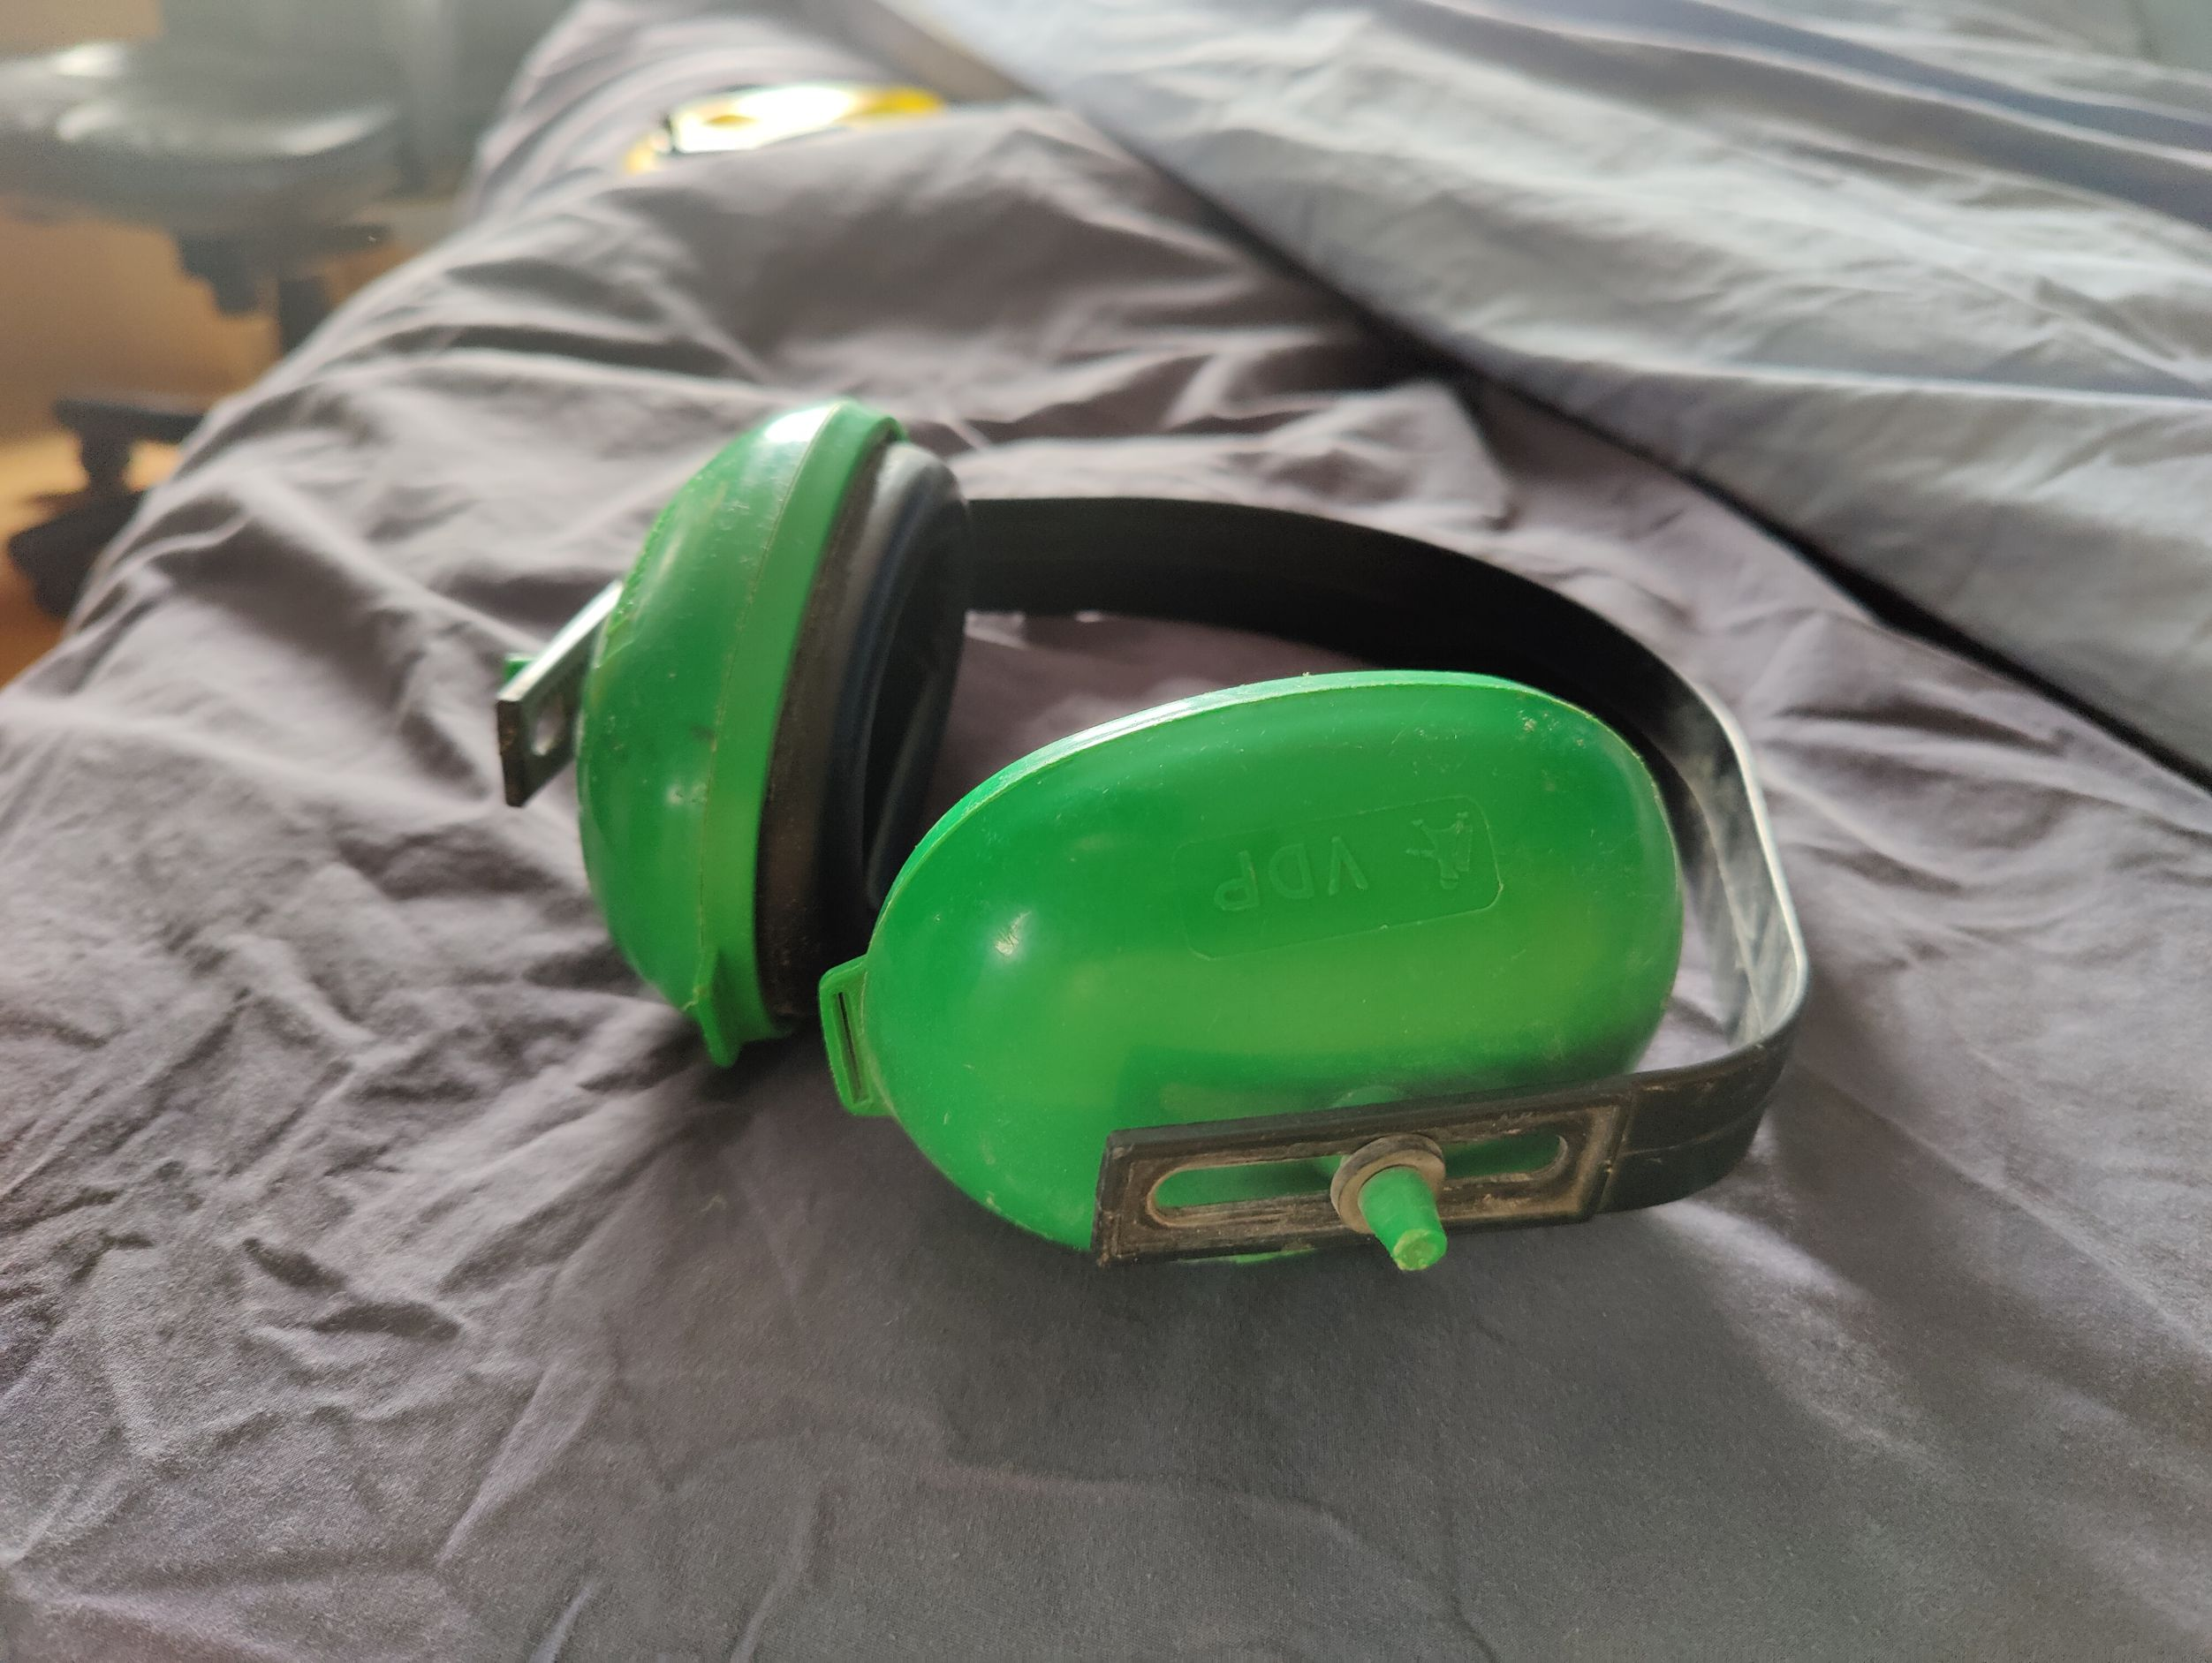headphones: (486, 398, 1814, 1277)
